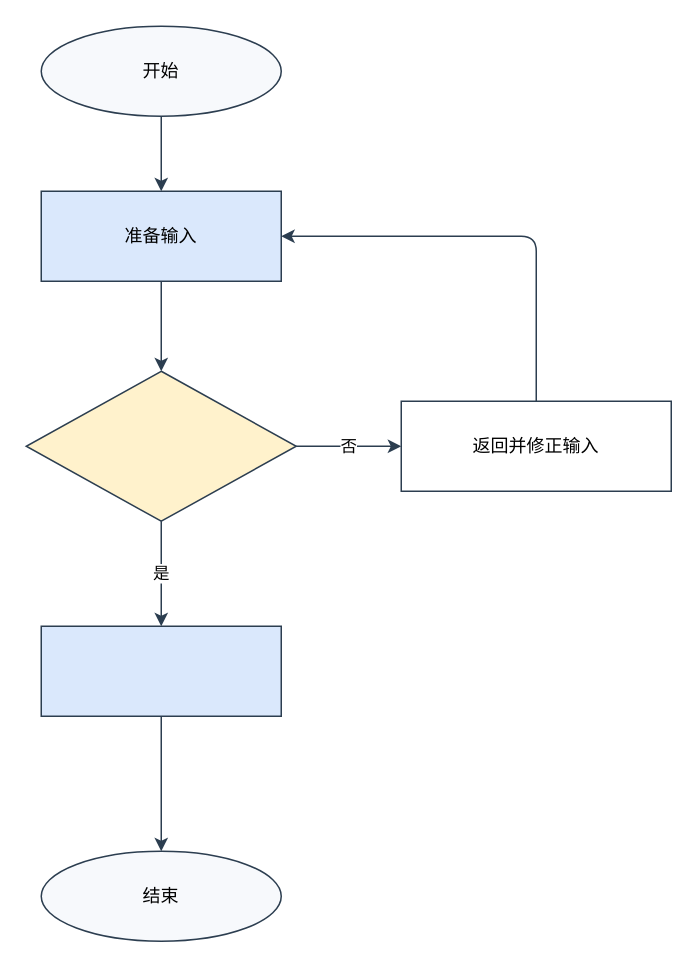
Some shapes in this 698 by 968 pixel diagram are drawn without their labels. Here are the shapes that lost their labels. From the top down, the centre of each, then its label:
At (x=160, y=445): "输入有效？".
At (x=160, y=670): "执行处理".
